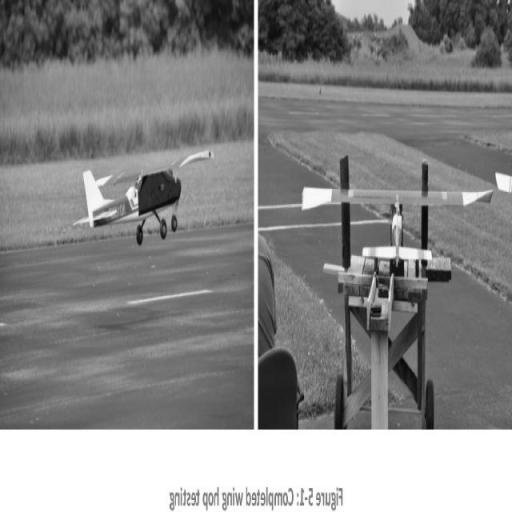uav: (36, 112, 222, 290)
